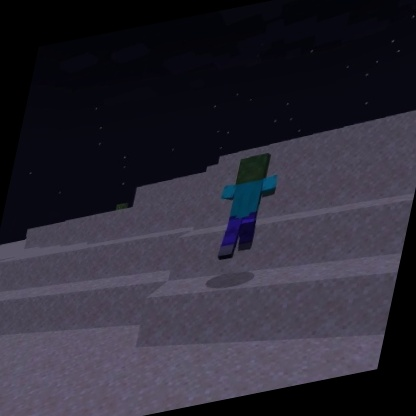zombie: (201, 145, 289, 267)
